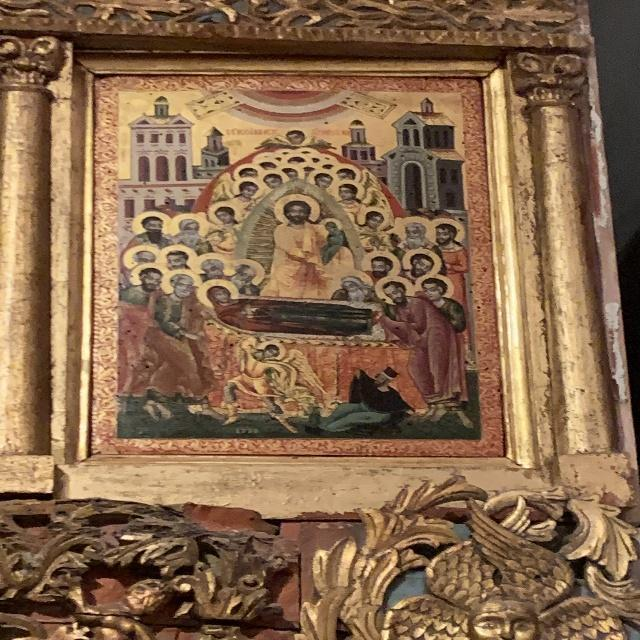angel: (212, 343, 321, 421), (231, 341, 316, 426), (210, 166, 264, 205), (335, 178, 387, 211)
aura: (275, 194, 323, 220), (362, 251, 401, 279), (160, 272, 198, 300), (199, 283, 238, 310), (402, 251, 440, 277), (414, 277, 461, 298), (130, 267, 171, 291), (333, 269, 372, 294), (133, 211, 171, 236), (394, 220, 434, 242), (171, 214, 209, 236), (354, 210, 393, 231), (377, 279, 413, 301), (160, 247, 194, 270), (229, 262, 262, 285), (428, 221, 463, 242), (124, 246, 158, 266), (197, 255, 226, 278), (209, 203, 239, 225), (252, 341, 284, 360), (260, 172, 289, 192), (233, 180, 260, 200), (337, 182, 364, 201), (234, 166, 262, 181), (313, 172, 338, 188), (321, 218, 343, 236), (337, 166, 360, 180), (278, 167, 303, 178), (257, 159, 281, 169)
christ_kid: (317, 215, 351, 266)
father: (271, 193, 323, 299)
mary: (202, 287, 381, 341)
saint: (381, 285, 460, 404), (137, 271, 199, 392), (119, 269, 163, 392), (430, 282, 460, 425), (434, 225, 468, 307)
wing: (282, 353, 331, 392), (205, 173, 232, 205), (363, 190, 391, 210), (361, 171, 379, 190)
